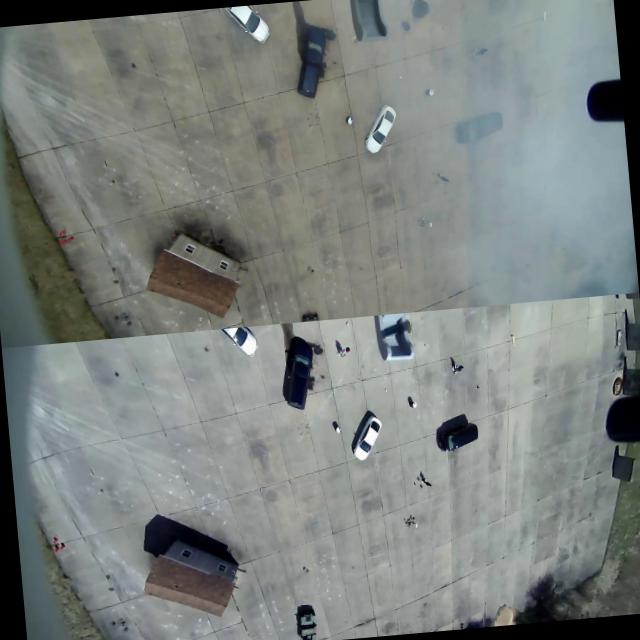car: (288, 26, 332, 100), (578, 70, 624, 134), (222, 4, 270, 46), (347, 410, 384, 460), (361, 104, 398, 152), (436, 421, 478, 452), (218, 324, 257, 351)
